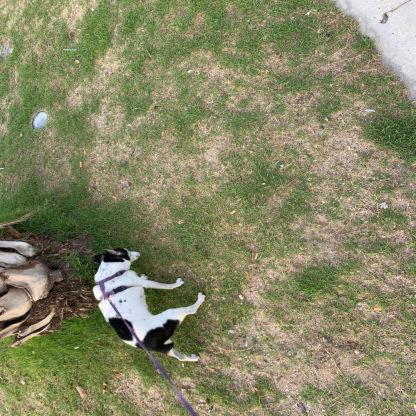Cigarette: (209, 367, 216, 372), (230, 210, 236, 215), (112, 195, 118, 199), (80, 162, 83, 168)
Pop tab: (178, 219, 183, 224)
